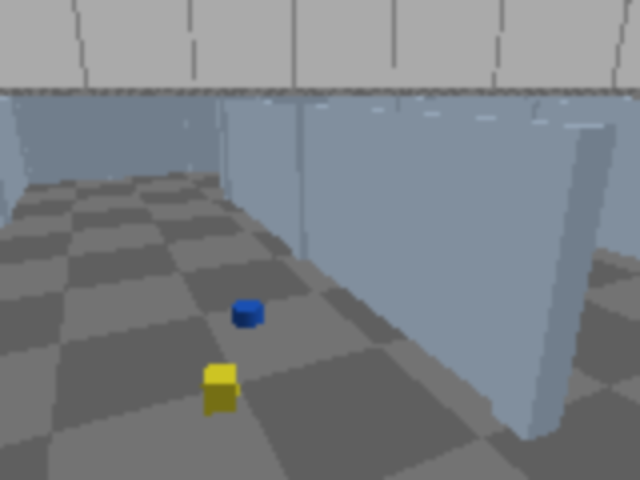puck: (202, 365, 239, 415), (235, 299, 261, 327)
